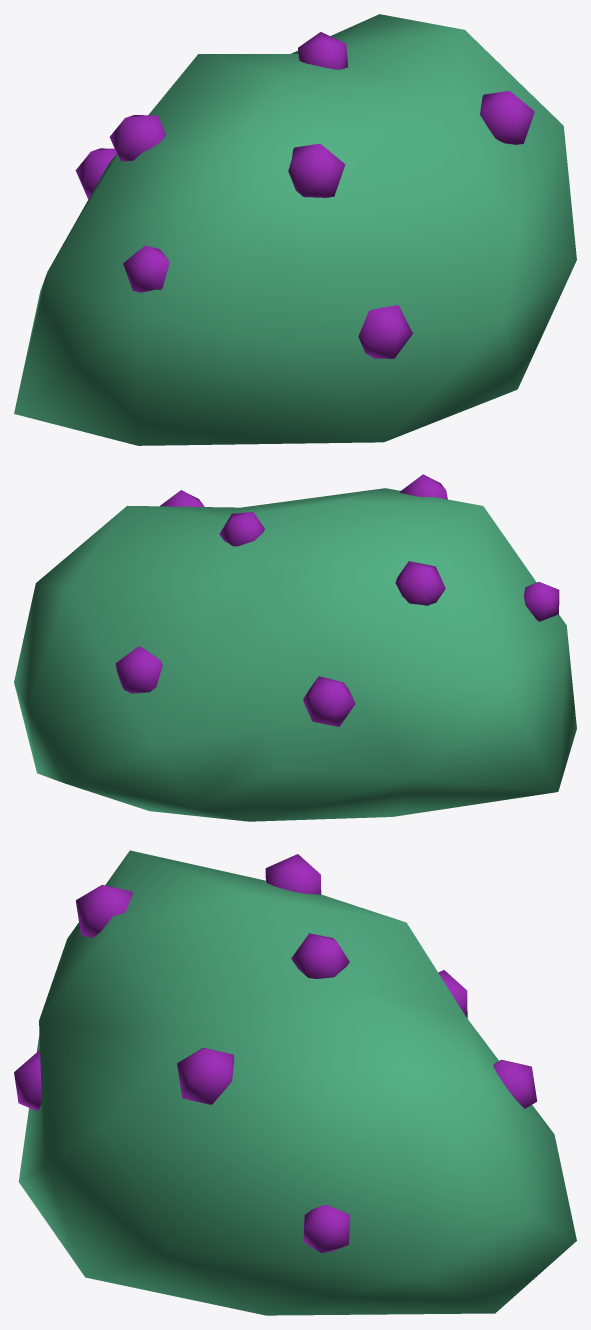
Rendered from Bush_Turquoise_2.fbx.
The picture shows the model from 3 angles, top to bottom: view 1: azimuth 30°, elevation 25°; view 2: azimuth 150°, elevation 25°; view 3: azimuth 270°, elevation 25°; orthographic projection. The views are drawn at different scales.
Parts seen in each view (by area): view 1: Tree2_Leave3.025, Icosphere.060; view 2: Tree2_Leave3.025, Icosphere.060; view 3: Tree2_Leave3.025, Icosphere.060.
Part boxes in pixels (<box>): Tree2_Leave3.025: <box>14,14,576,445</box>; Icosphere.060: <box>75,32,534,358</box>; Tree2_Leave3.025: <box>14,488,576,821</box>; Icosphere.060: <box>115,474,559,726</box>; Tree2_Leave3.025: <box>18,850,576,1315</box>; Icosphere.060: <box>14,854,537,1252</box>.
Size of the model in its own units: 207 by 111 by 169.
